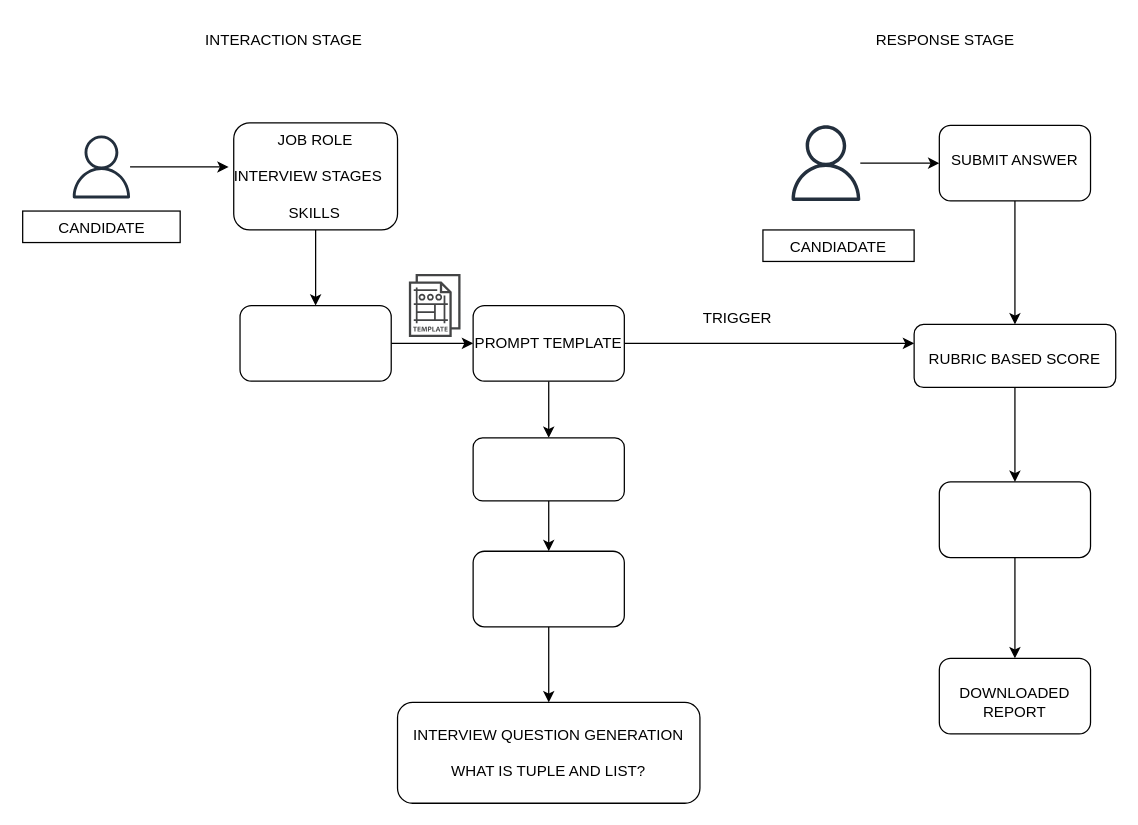
The diagram is 1138 pixels wide and 825 high, and some of its shapes have lost their labels. Each missing label, with the box of its shape:
BINARY EVALUATION: (938, 481, 1091, 558)
GROQ API: (472, 437, 624, 501)
LANGCHAIN FRAMEWORK: (239, 304, 391, 381)
LLM MODELS 1.DEEPSEEK 2.GEMMA 3.LLAMA: (472, 550, 624, 627)
